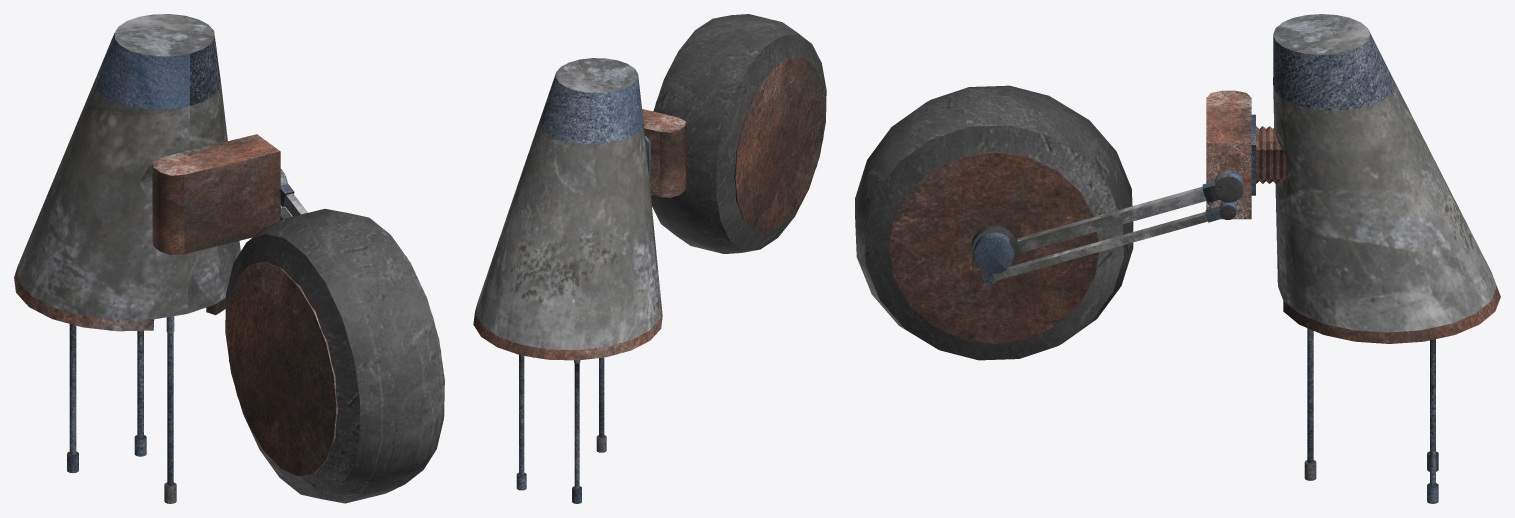
Rendered from droid.fbx.
The picture shows the model from 3 angles, left to right: view 1: azimuth 30°, elevation 25°; view 2: azimuth 150°, elevation 25°; view 3: azimuth 270°, elevation 25°; orthographic projection. The views are drawn at different scales.
Parts seen in each view (by area): view 1: droid; view 2: droid; view 3: droid.
Boxes of the visible parts, box(x1,y1,x2,y2) form: droid: box(14, 14, 444, 503); droid: box(473, 14, 826, 503); droid: box(855, 14, 1500, 503).
Size of the model in its own units: 72.77 by 163 by 211.
